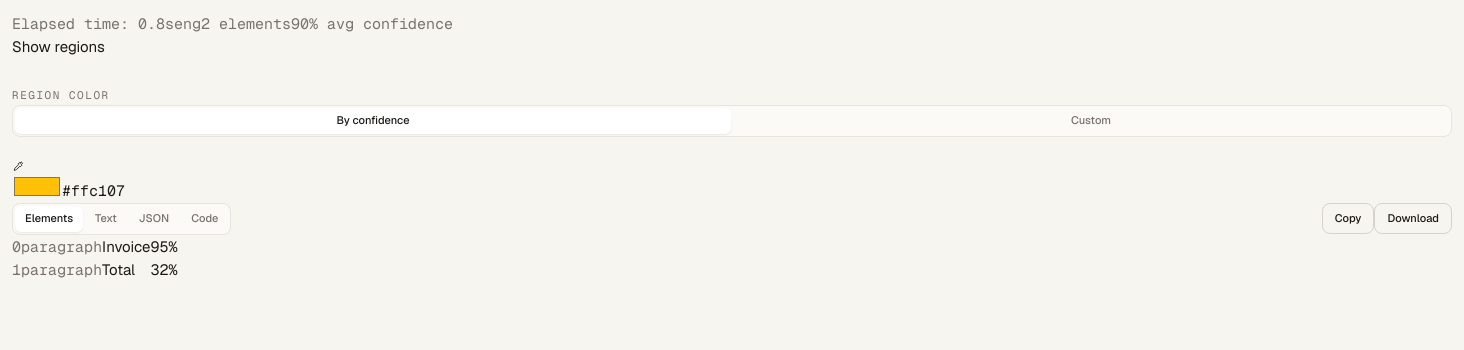
Test case: switches to the text view
Click the button "Text" at (106, 218), box [85, 206, 127, 232]
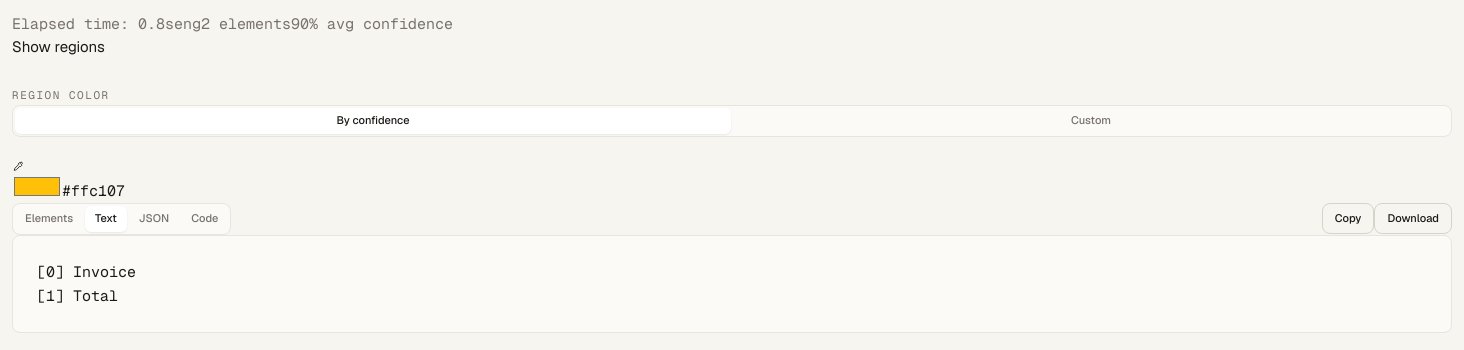
Expected: the text "[0] Invoice [1] Total" is shown, [12, 234, 1452, 332]
